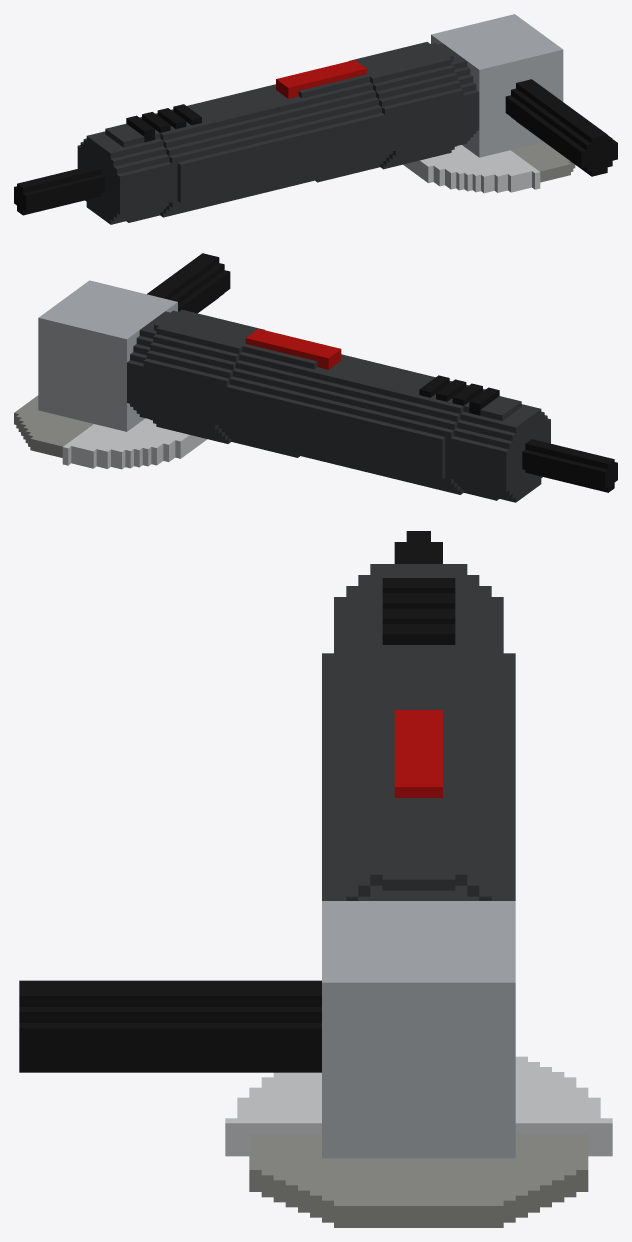
Rendered from angle_grinder.glb.
3 renders of one model, top to bottom at view 1: azimuth 30°, elevation 25°; view 2: azimuth 150°, elevation 25°; view 3: azimuth 270°, elevation 25°, orthographic. The views are drawn at different scales.
Visible parts, largest first — view 1: angle_grinder:compound; view 2: angle_grinder:compound; view 3: angle_grinder:compound.
Boxes of the visible parts, x1,y1,x2,y2 form: angle_grinder:compound: (14, 14, 617, 224); angle_grinder:compound: (14, 253, 617, 502); angle_grinder:compound: (19, 531, 612, 1227).
Bounding box in the file's own units: 0.416 × 0.088 × 0.196.
